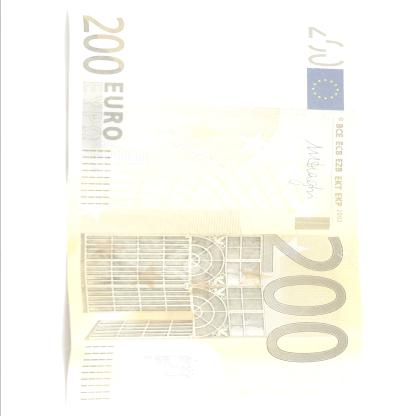euro_banknote: (19, 60, 412, 355)
